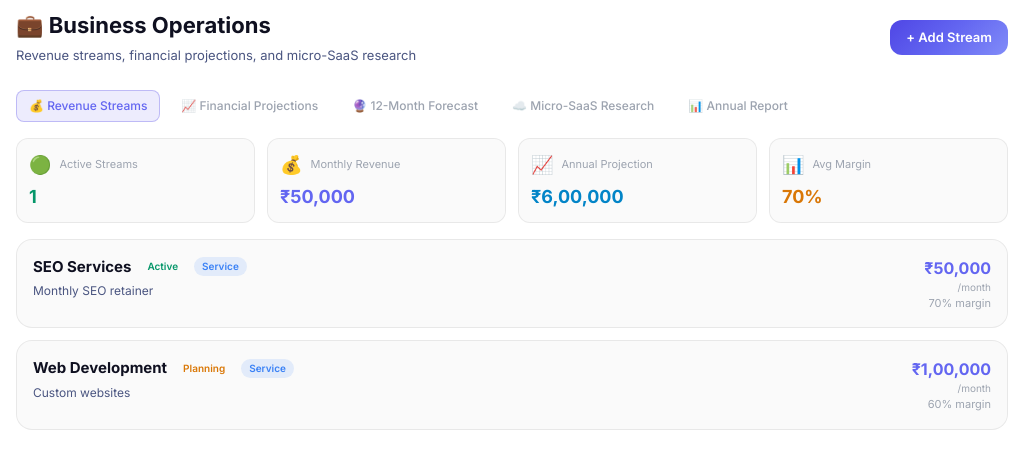
Test: BusinessTab › view tab switching › switches to annual report view
The width and height of the screenshot is (1024, 458).
Click the button "📊 Annual Report". click: (738, 106)
box: [675,90,801,122]
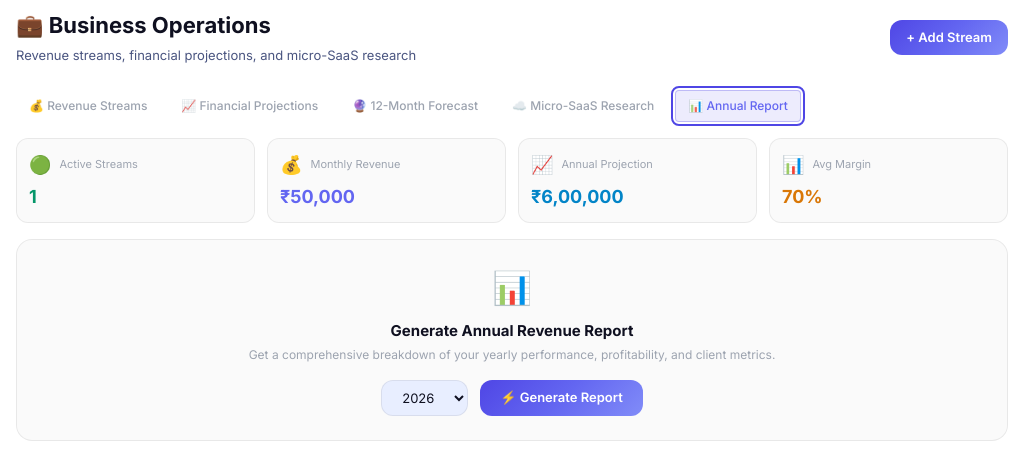
Expected: the heading "Generate Annual Revenue Report" is shown, [391,320,633,340]
Expected: the button "⚡ Generate Report" is shown, [480,380,643,416]
